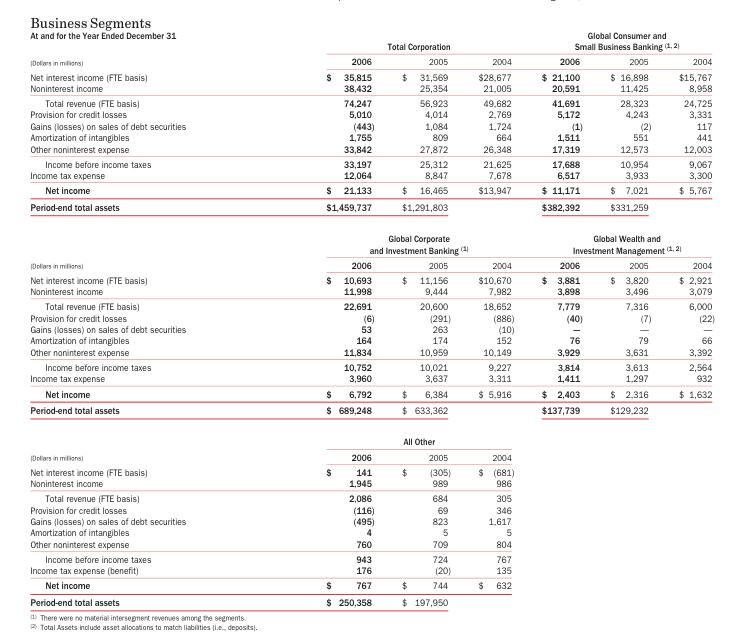table: (29, 29, 713, 607)
table column: (29, 29, 255, 607), (255, 29, 387, 607), (387, 29, 463, 607), (595, 29, 664, 607), (527, 29, 595, 607), (463, 29, 527, 607), (664, 29, 713, 607)
table column header: (29, 29, 713, 68)
table row: (29, 222, 713, 257), (29, 29, 713, 53), (29, 198, 713, 222), (29, 401, 713, 425), (29, 425, 713, 449), (29, 182, 713, 198), (29, 385, 713, 401), (29, 577, 713, 593), (29, 53, 713, 68), (29, 257, 713, 272), (29, 449, 713, 464), (29, 68, 713, 82), (29, 142, 713, 156), (29, 537, 713, 551), (29, 593, 713, 607), (29, 82, 713, 95), (29, 95, 713, 108), (29, 156, 713, 169), (29, 169, 713, 182), (29, 272, 713, 285), (29, 285, 713, 298), (29, 298, 713, 311), (29, 346, 713, 359), (29, 359, 713, 372), (29, 372, 713, 385), (29, 464, 713, 477), (29, 477, 713, 490), (29, 490, 713, 503), (29, 551, 713, 564), (29, 564, 713, 577), (29, 108, 713, 120), (29, 311, 713, 323), (29, 334, 713, 346), (29, 503, 713, 515), (29, 120, 713, 131), (29, 131, 713, 142), (29, 323, 713, 334), (29, 515, 713, 526), (29, 526, 713, 537)
table spanning cell: (255, 222, 527, 257), (29, 29, 255, 68), (255, 29, 527, 53), (255, 425, 527, 449), (527, 222, 713, 257), (527, 29, 713, 53)
